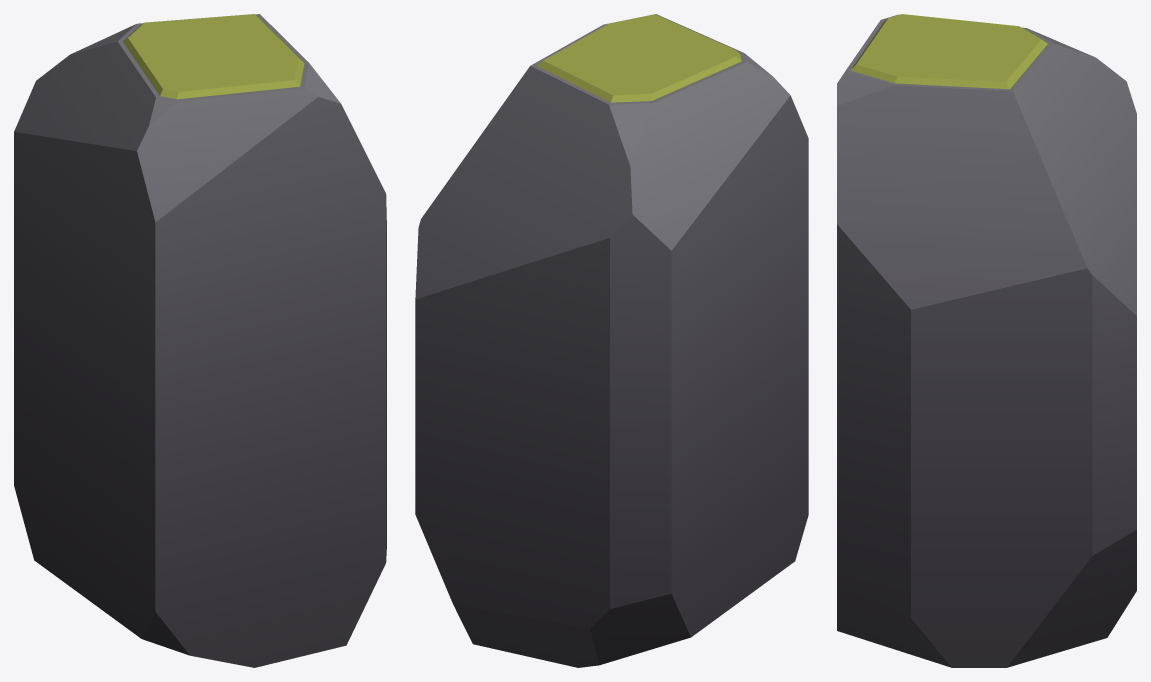
The model's file is Rock_25.glb.
3 renders of one model, left to right at view 1: azimuth 30°, elevation 25°; view 2: azimuth 150°, elevation 25°; view 3: azimuth 270°, elevation 25°, orthographic. The views are drawn at different scales.
Visible parts, largest first — view 1: Rock_25_LOD0; view 2: Rock_25_LOD0; view 3: Rock_25_LOD0.
Boxes of the visible parts, x1,y1,x2,y2 form: Rock_25_LOD0: [14, 14, 386, 667]; Rock_25_LOD0: [415, 14, 808, 667]; Rock_25_LOD0: [837, 14, 1136, 667].
Size of what is drawn, in the model's own units: 1.51 by 3.03 by 1.51.
1 material, 1 textured.
